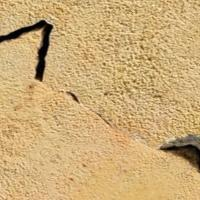crack: (0, 16, 199, 184)
